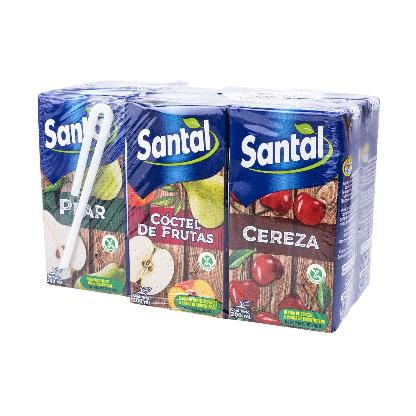Others: (227, 101, 363, 345), (129, 98, 226, 320), (35, 87, 128, 299)
